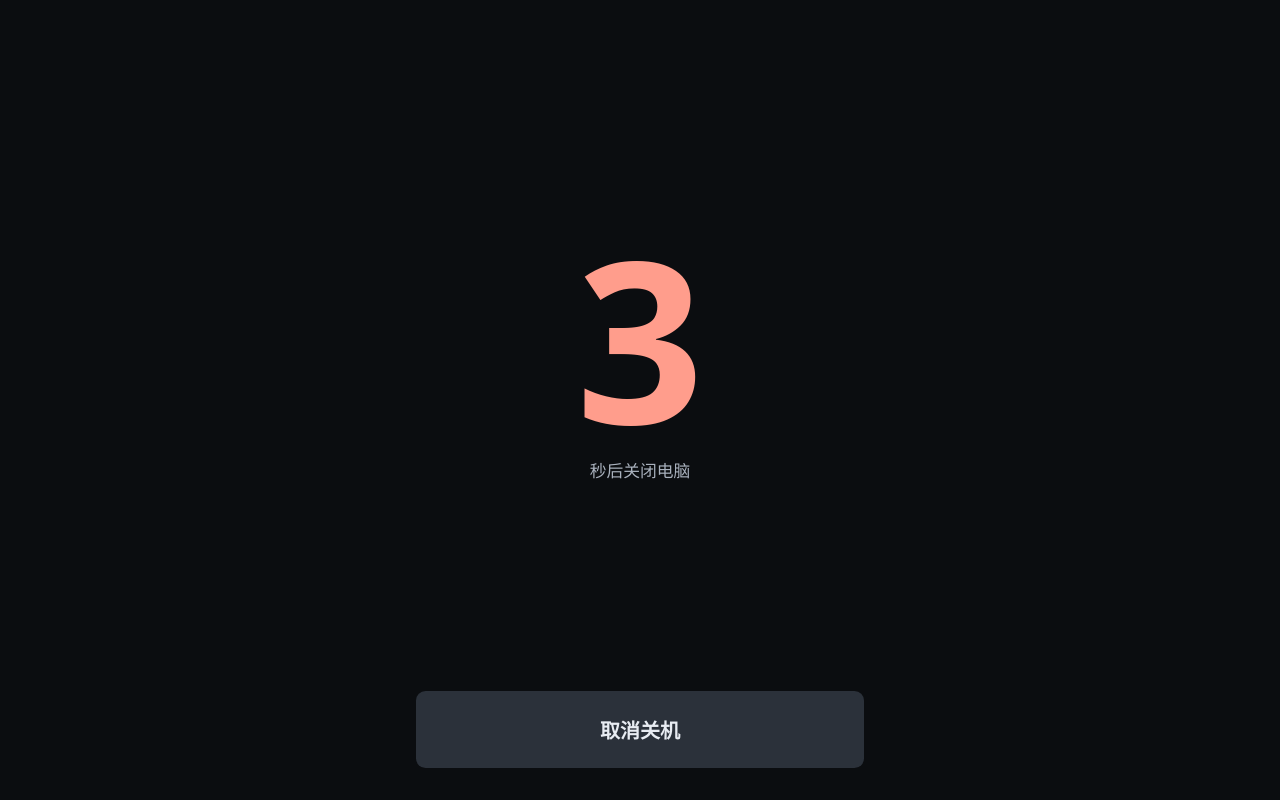
Scenario: 手动关机走后端权威倒计时 › 后端拒绝取消时不显示取消成功，并说明执行已经开始
Click the button with test id "shutdown-cancel": x=640, y=730 left=416, top=691, right=864, bottom=768
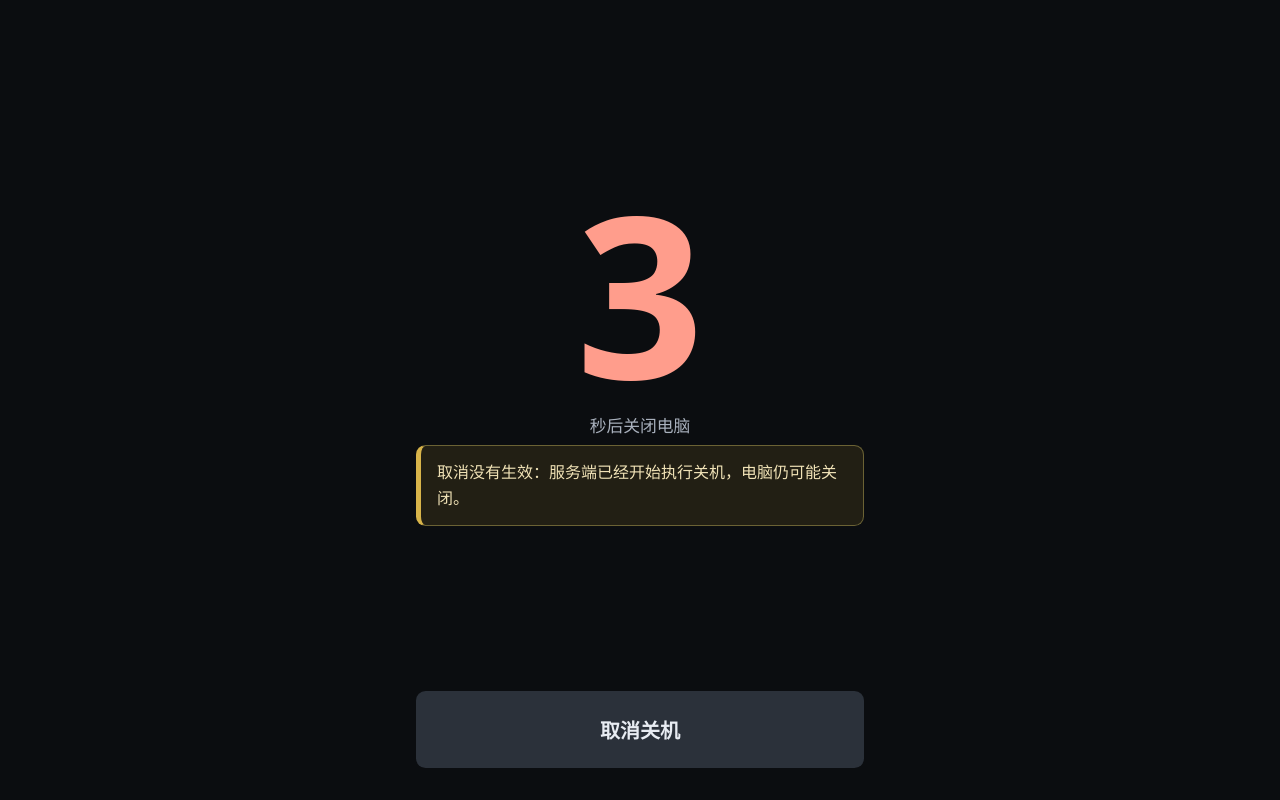
Now the text with test id "shutdown-refusal" shows "取消没有生效", box left=437, top=461, right=837, bottom=508
